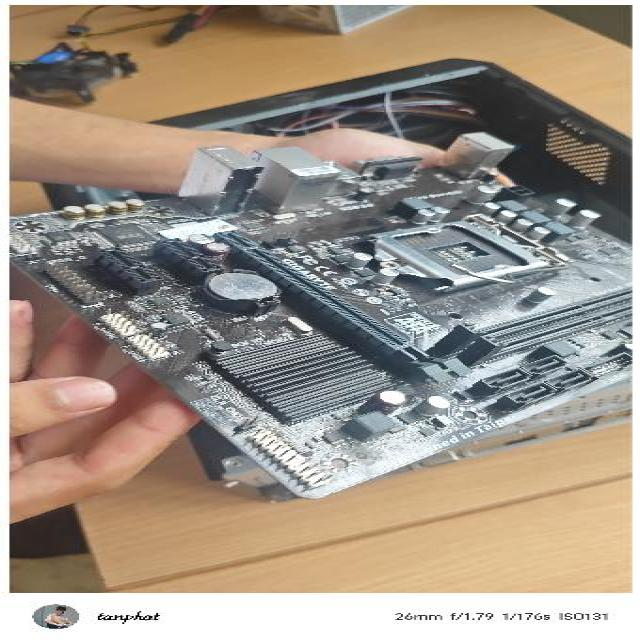Mainboard: (6, 128, 632, 500)
